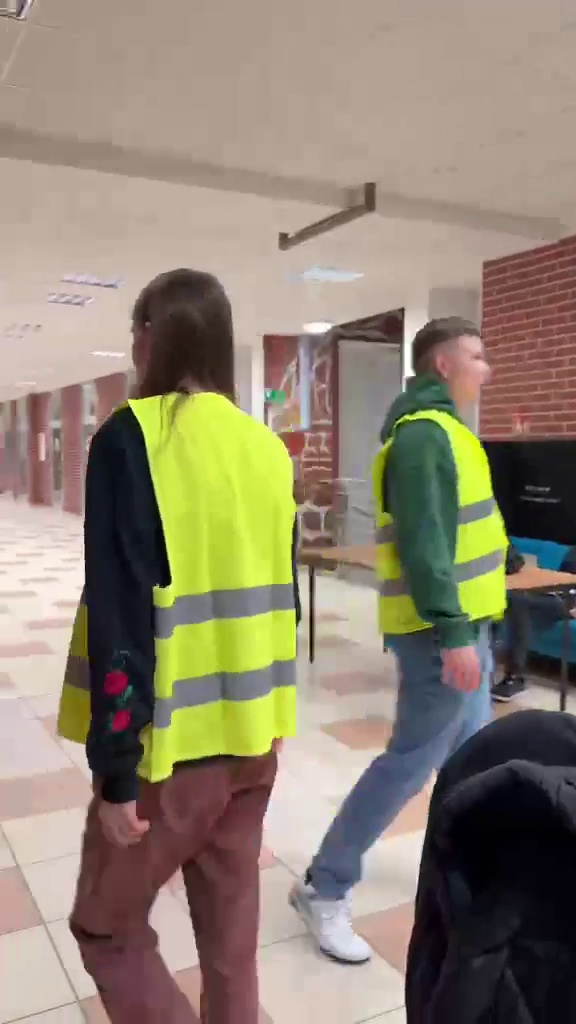vest: (69, 270, 295, 1010), (344, 303, 541, 951)
